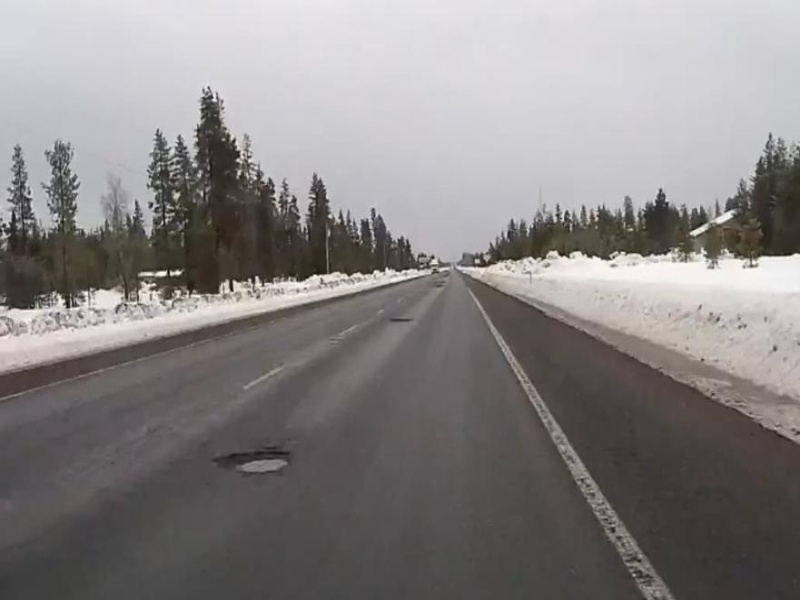pothole: (208, 448, 299, 480)
